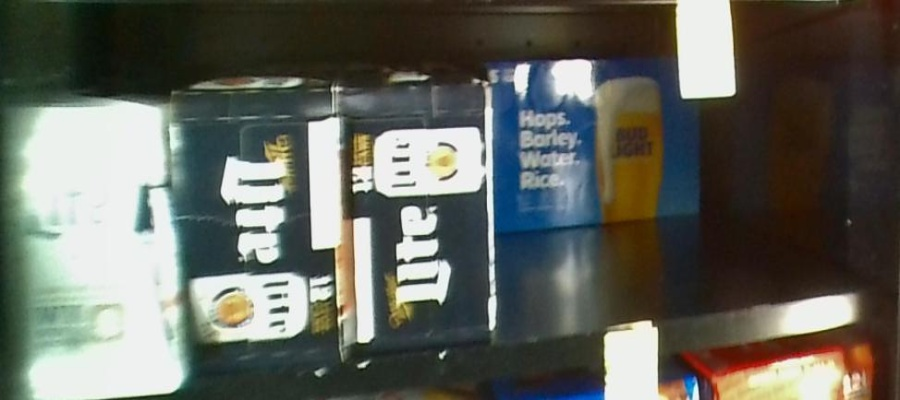bottle: (1, 99, 184, 398), (165, 69, 334, 378), (334, 72, 494, 356), (493, 55, 702, 220)
